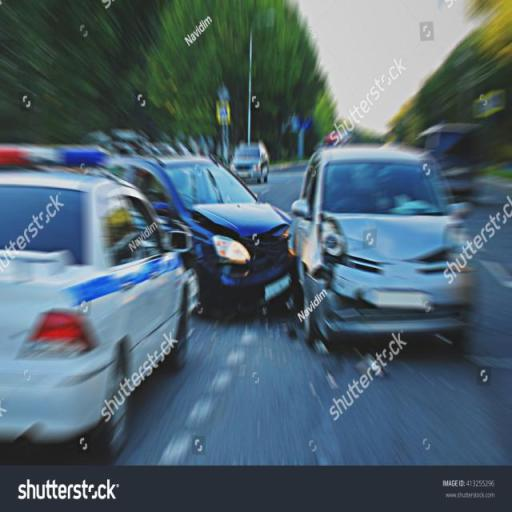小汽车: (2, 162, 196, 448), (232, 140, 270, 182)
小汽车撞小汽车: (160, 142, 466, 346)
